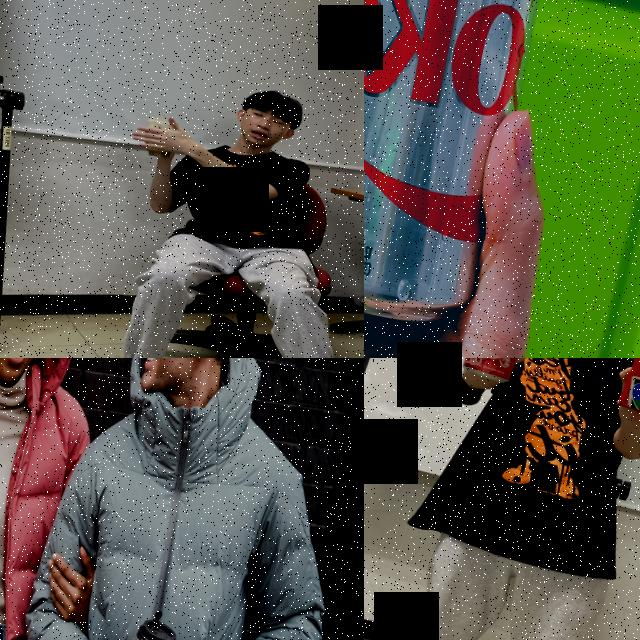can: (364, 0, 563, 336), (460, 358, 540, 387)
cup: (141, 116, 180, 160), (118, 616, 182, 640)
